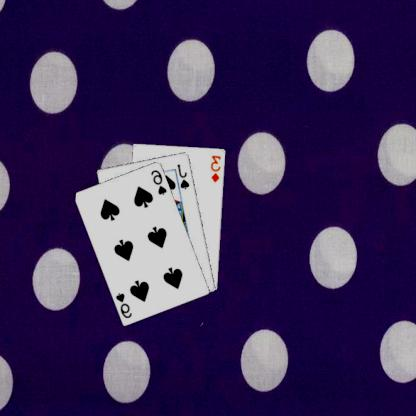3D: (210, 152, 224, 184)
6S: (150, 167, 170, 196), (115, 290, 135, 319)
JS: (177, 162, 192, 190)
